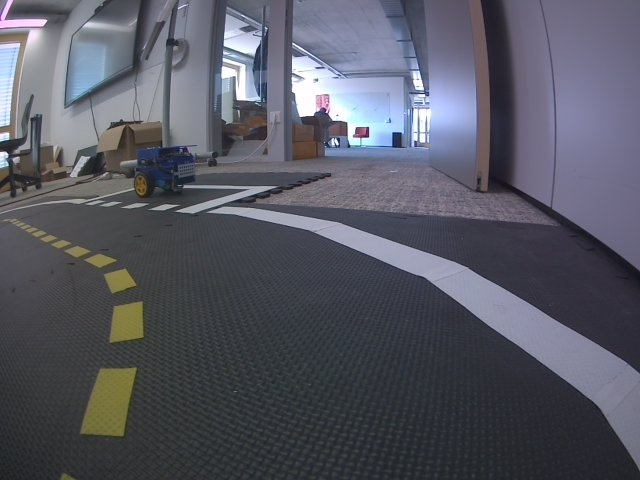Bot: (135, 144, 197, 199)
occupiedSlot: (79, 182, 274, 214)
